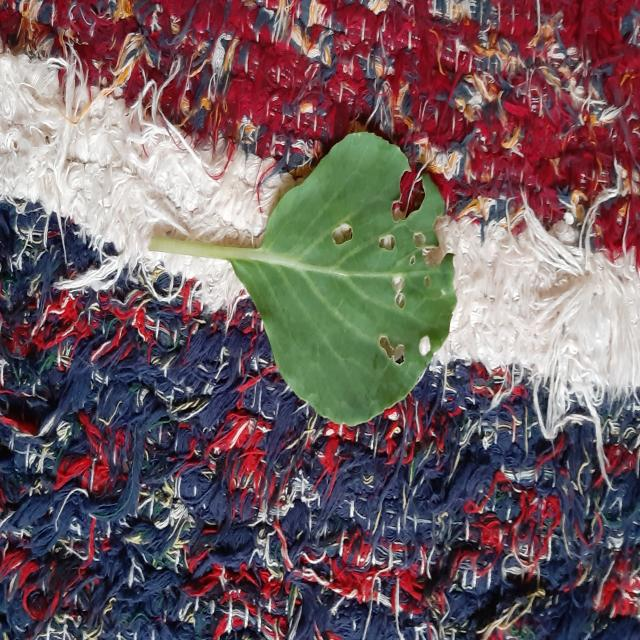Kohlrabi: (150, 133, 456, 424)
